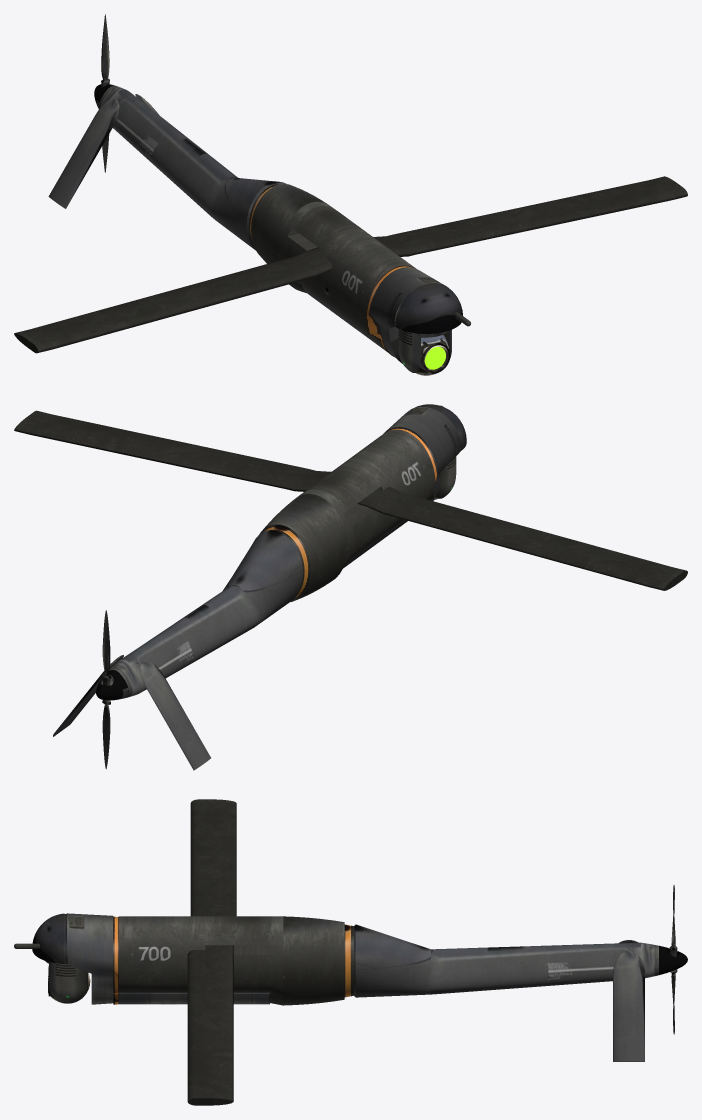
Rendered from anduril_altius_700m.glb.
The picture shows the model from 3 angles, top to bottom: view 1: azimuth 30°, elevation 25°; view 2: azimuth 150°, elevation 25°; view 3: azimuth 270°, elevation 25°; orthographic projection. The views are drawn at different scales.
Parts seen in each view (by area): view 1: Mesh003_Material #25_0, Cylinder002_Material #25_0, Cylinder004_Material #25_0, C-Ext002, Capsule002, Sphere006; view 2: Mesh003_Material #25_0, Cylinder002_Material #25_0, Cylinder004_Material #25_0, C-Ext002, C-Ext001; view 3: Mesh003_Material #25_0, Cylinder004_Material #25_0, Cylinder002_Material #25_0, C-Ext001, Capsule002.
Part boxes in pixels (x1=…): Mesh003_Material #25_0: x1=96, y1=84, x2=470, y2=363; Cylinder002_Material #25_0: x1=14, y1=247, x2=331, y2=353; Cylinder004_Material #25_0: x1=373, y1=176, x2=687, y2=256; C-Ext002: x1=48, y1=99, x2=119, y2=208; Capsule002: x1=398, y1=328, x2=451, y2=372; Sphere006: x1=416, y1=335, x2=448, y2=375; Mesh003_Material #25_0: x1=99, y1=404, x2=466, y2=699; Cylinder002_Material #25_0: x1=357, y1=487, x2=687, y2=590; Cylinder004_Material #25_0: x1=14, y1=410, x2=331, y2=491; C-Ext002: x1=140, y1=660, x2=210, y2=770; C-Ext001: x1=53, y1=655, x2=123, y2=736; Mesh003_Material #25_0: x1=14, y1=913, x2=666, y2=1005; Cylinder004_Material #25_0: x1=187, y1=945, x2=233, y2=1105; Cylinder002_Material #25_0: x1=190, y1=799, x2=236, y2=916; C-Ext001: x1=613, y1=950, x2=644, y2=1061; Capsule002: x1=45, y1=961, x2=88, y2=1003.
Bounding box in the file's own units: 1104 × 258 × 1053.
3 materials, 1 textured.
